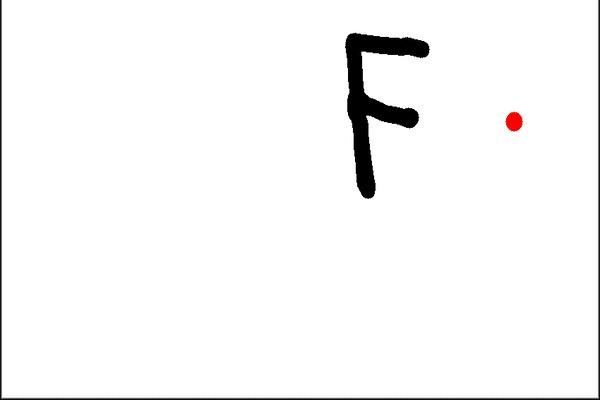F: (341, 28, 431, 202)
